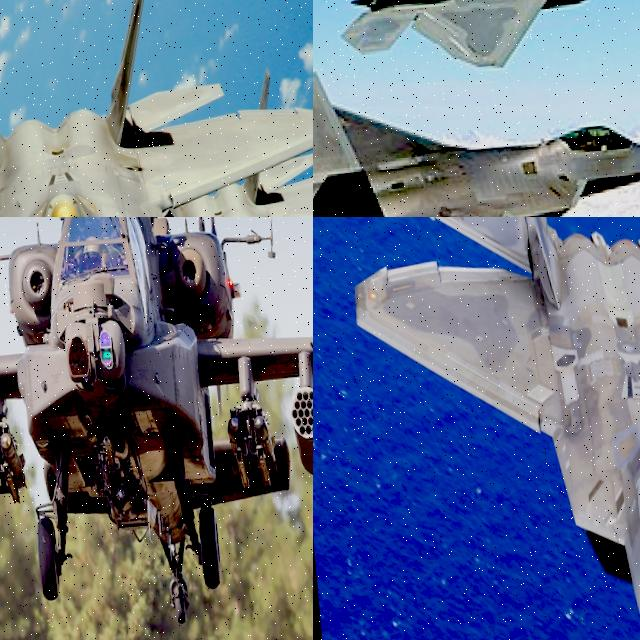Apache: (0, 217, 313, 627)
F22: (343, 217, 640, 640), (0, 0, 313, 217), (313, 33, 640, 217), (313, 0, 640, 88), (94, 146, 313, 217)
